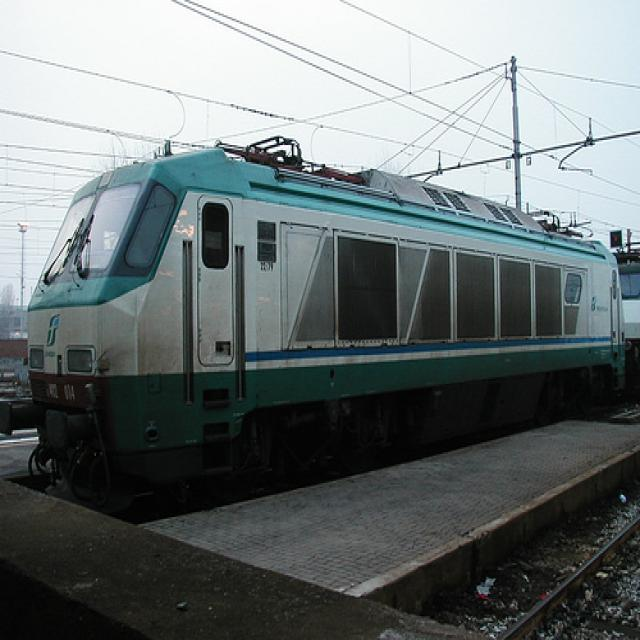train: (29, 136, 627, 516)
